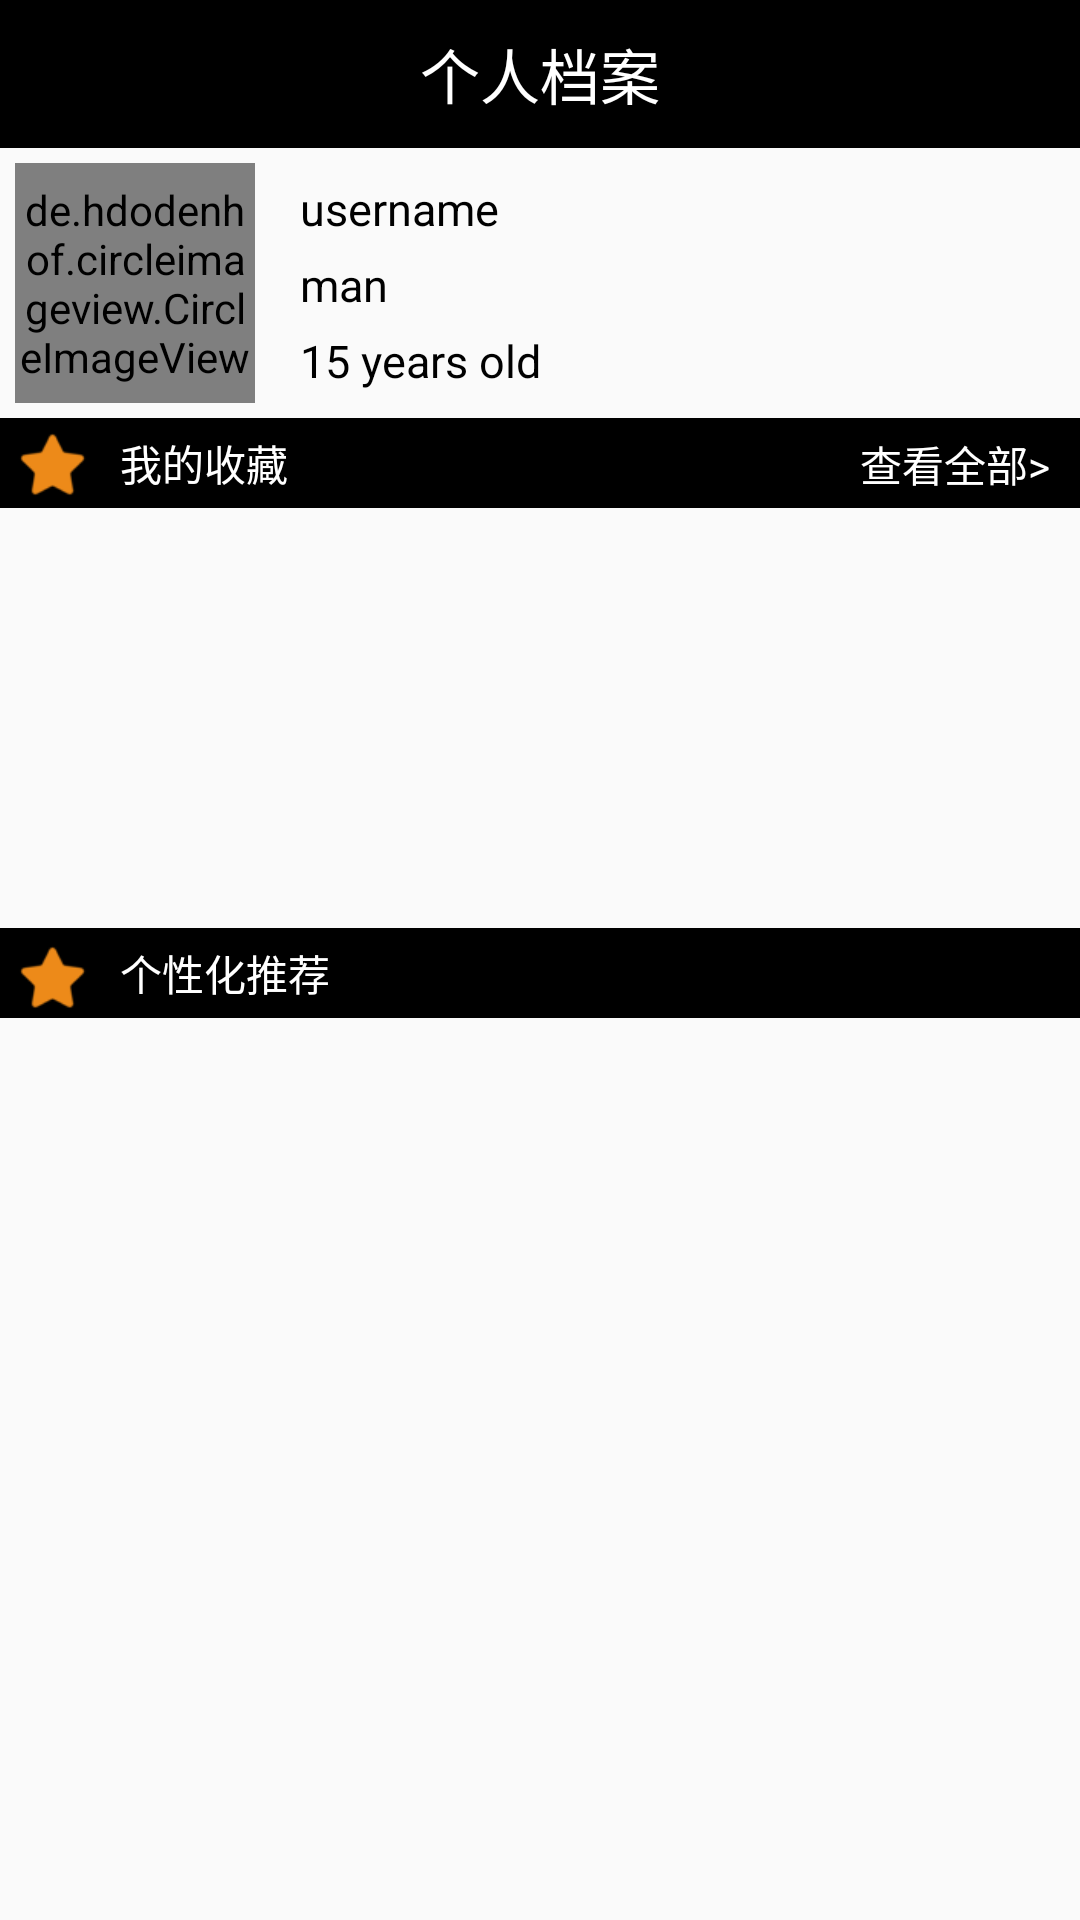

Where icons sit on this 1080x1920 app screen, as [x1=x1, y1=y1, x2=x2, y2=y2]:
personal star: [x1=21, y1=434, x2=85, y2=495], [x1=21, y1=947, x2=85, y2=1008]
